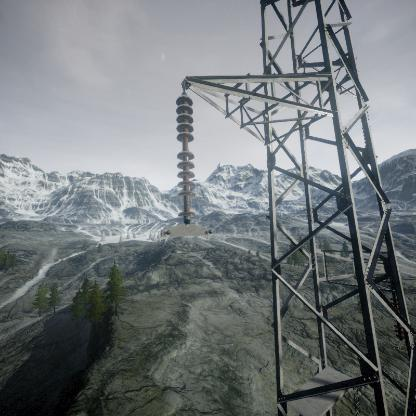insulator: (175, 92, 196, 223)
